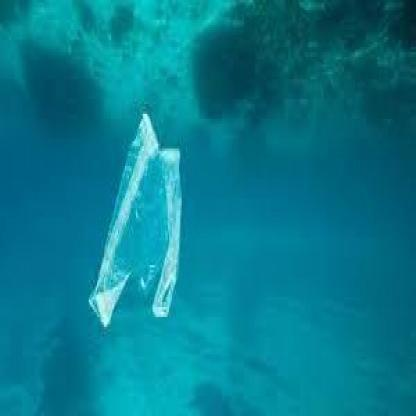pbag: (89, 112, 184, 332)
